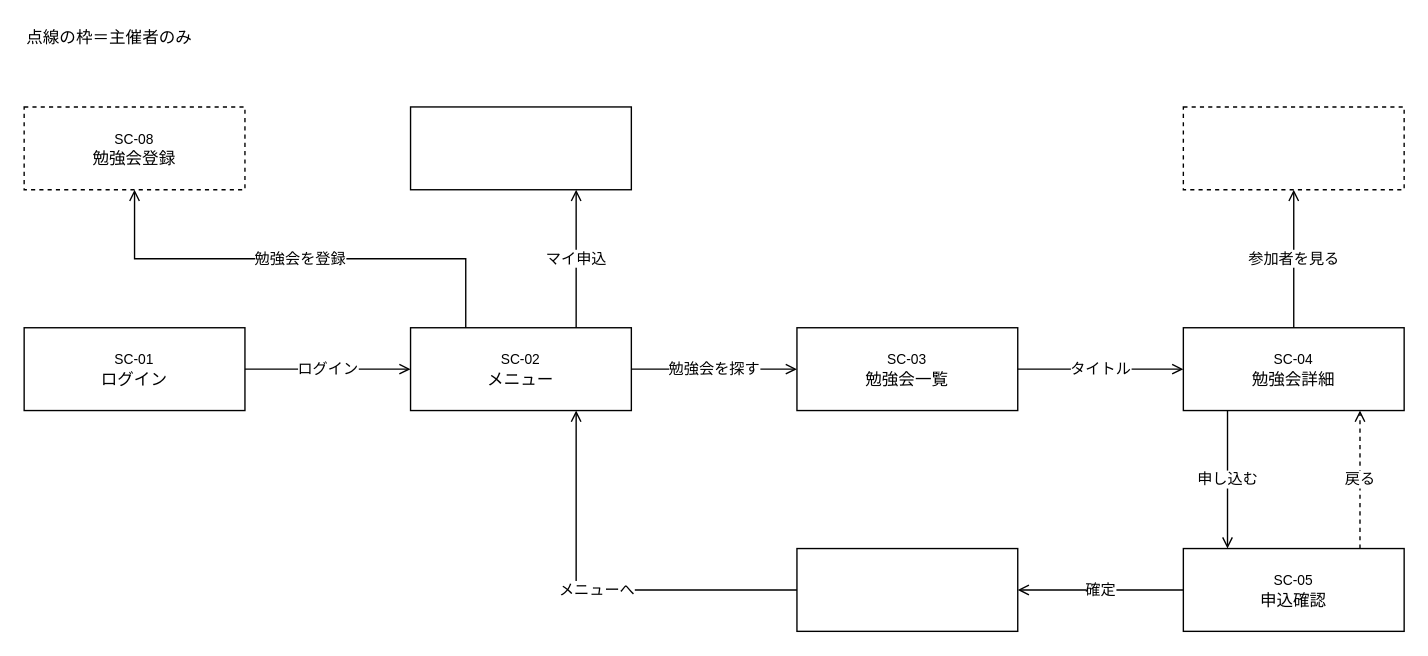
Image size: 1428x656. Some labels were removed from this diagram. Each missing label, with the centre of its shape:
"SC-06 申込完了" belongs at [907,589].
"SC-07 マイ申込一覧" belongs at [520,148].
"SC-09 参加者一覧" belongs at [1293,148].
